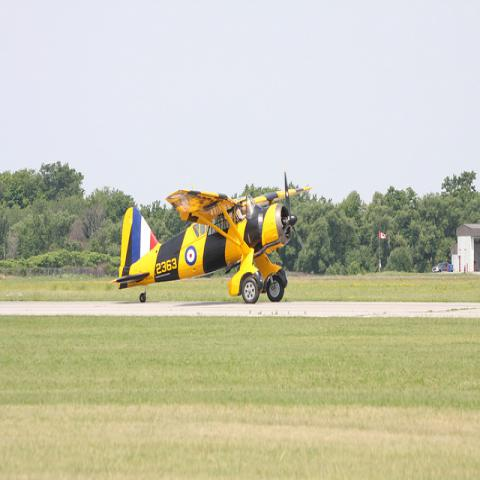car: (432, 263, 448, 273)
